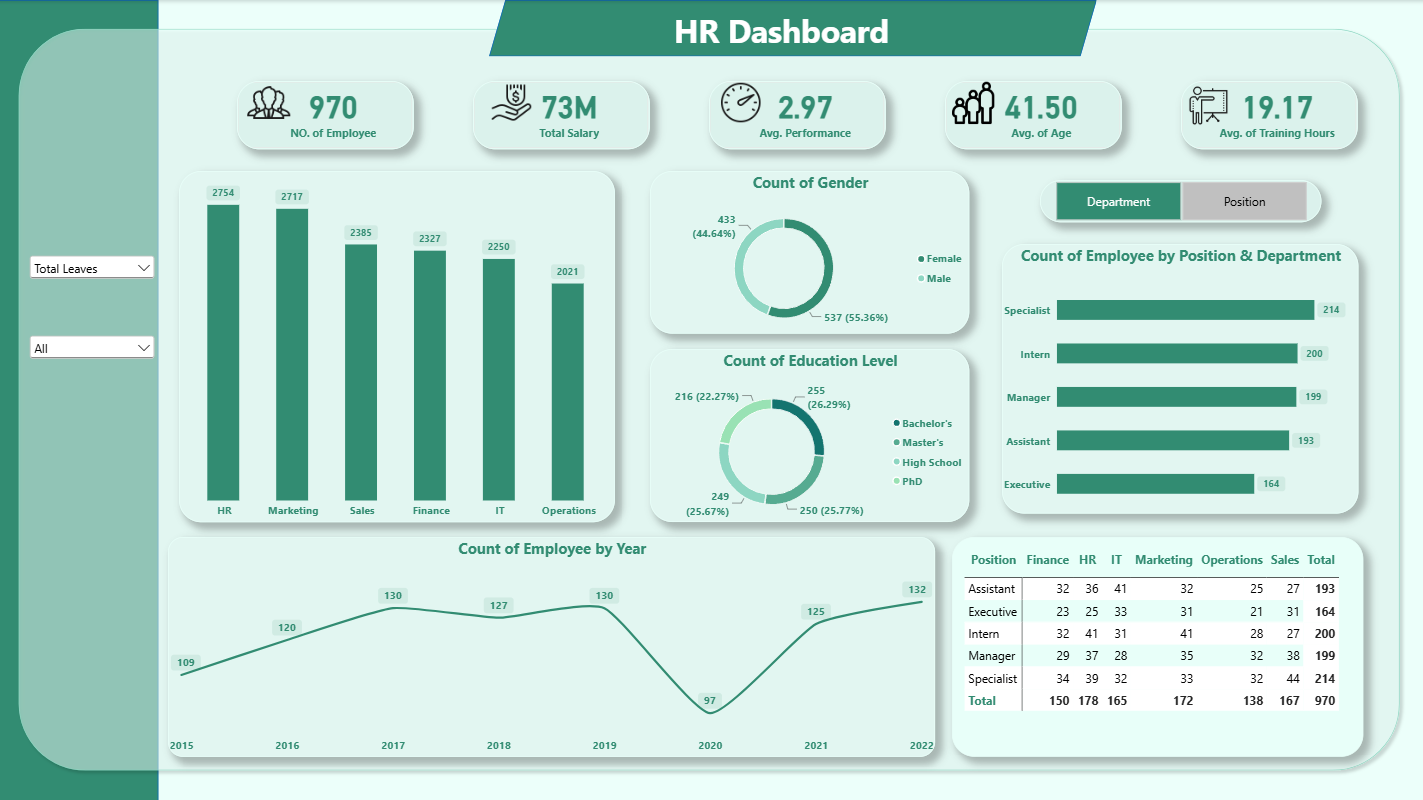

The dashboard page shown, as its layout file describes it:
{"tool":"powerbi","page":{"name":"Page 1","canvas":[1920,1080],"ordinal":0},"visuals":[{"type":"shape","box":[0,0,215.9,1079.6],"z":0},{"type":"shape","box":[19,29.2,1877.7,1016.9],"z":1000},{"type":"cardVisual","fields":{"Data":["CountNonNull(HR.Employee_ID)"]},"box":[322.4,109.4,237.8,91.9],"z":2000},{"type":"cardVisual","fields":{"Data":["Sum(HR.Salary)"]},"box":[640.1,109.4,237.8,91.9],"z":3000},{"type":"cardVisual","fields":{"Data":["Avg(HR.Performance_Score)"]},"box":[957.8,109.4,237.8,91.9],"z":4000},{"type":"cardVisual","fields":{"Data":["Avg(HR.Age)"]},"box":[1275.5,109.4,237.8,91.9],"z":5000},{"type":"cardVisual","fields":{"Data":["Avg(HR.Training_Hours_Completed)"]},"box":[1593.2,109.4,237.8,91.9],"z":6000},{"type":"image","box":[1285.3,109.4,56.9,58.4],"z":7000},{"type":"image","box":[332.6,109.4,64.2,58.4],"z":8000},{"type":"image","box":[658,109.4,65.7,58.4],"z":9000},{"type":"image","box":[1593.2,109.4,74.4,65.7],"z":10000},{"type":"image","box":[968.8,109.4,64.2,58.4],"z":11000},{"type":"shape","box":[660.9,0,818.5,75.9],"z":12000},{"type":"textbox","box":[910.4,11.7,302,64.2],"z":13000},{"type":"slicer","fields":{"Values":["Parameter.Parameter"]},"box":[1403.5,242.2,379.3,56.9],"z":14000},{"type":"barChart","title":"Count of Employee by Position & Department","fields":{"Category":["HR.Position"],"Y":["CountNonNull(HR.Employee_ID)"]},"box":[1352.5,328.3,480,363.3],"z":15000},{"type":"lineChart","title":"Count of Employee by Year","fields":{"Category":["HR.Joining_Date.Variation.Date Hierarchy.Year"],"Y":["CountNonNull(HR.Employee_ID)"]},"box":[229.1,723.6,1032.9,296.2],"z":16000},{"type":"donutChart","title":"Count of Gender","fields":{"Category":["HR.Gender"],"Y":["CountNonNull(HR.Gender)"]},"box":[878.3,230.5,430.4,218.8],"z":17000},{"type":"donutChart","title":"Count of Education Level ","fields":{"Category":["HR.Education_Level"],"Y":["CountNonNull(HR.Education_Level)"]},"box":[878.3,469.8,430.4,233.4],"z":18000},{"type":"pivotTable","fields":{"Columns":["HR.Department"],"Rows":["HR.Position"],"Values":["CountNonNull(HR.Employee_ID)"]},"box":[1285.3,723.6,554.4,296.2],"z":19000},{"type":"slicer","fields":{"Values":["Parameter 2.Parameter"]},"box":[37.9,339.9,178,39.4],"z":20000},{"type":"columnChart","fields":{"Category":["HR.Department"],"Y":["HR.Total Leaves"]},"box":[243.6,230.5,586.5,472.7],"z":21000},{"type":"slicer","fields":{"Values":["HR.Branch"]},"box":[37.9,446.4,178,45.2],"z":22000}]}

Visuals, with their boxes in screenshot pixels (x1, y1, x2, y2), scaled from the page's 1920x1080 canvas onto the 1423x800 screenshot:
shape: 0 0 160 799
shape: 14 22 1406 775
cardVisual - CountNonNull(HR.Employee_ID): 239 81 415 149
cardVisual - Sum(HR.Salary): 474 81 651 149
cardVisual - Avg(HR.Performance_Score): 710 81 886 149
cardVisual - Avg(HR.Age): 945 81 1122 149
cardVisual - Avg(HR.Training_Hours_Completed): 1181 81 1357 149
image: 953 81 995 124
image: 247 81 294 124
image: 488 81 536 124
image: 1181 81 1236 130
image: 718 81 766 124
shape: 490 0 1096 56
textbox: 675 9 899 56
slicer - Parameter.Parameter: 1040 179 1321 222
"Count of Employee by Position & Department" barChart: 1002 243 1358 512
"Count of Employee by Year" lineChart: 170 536 935 755
"Count of Gender" donutChart: 651 171 970 333
"Count of Education Level " donutChart: 651 348 970 521
pivotTable - HR.Department x HR.Position: 953 536 1363 755
slicer - Parameter 2.Parameter: 28 252 160 281
columnChart - HR.Department x HR.Total Leaves: 181 171 615 521
slicer - HR.Branch: 28 331 160 364
